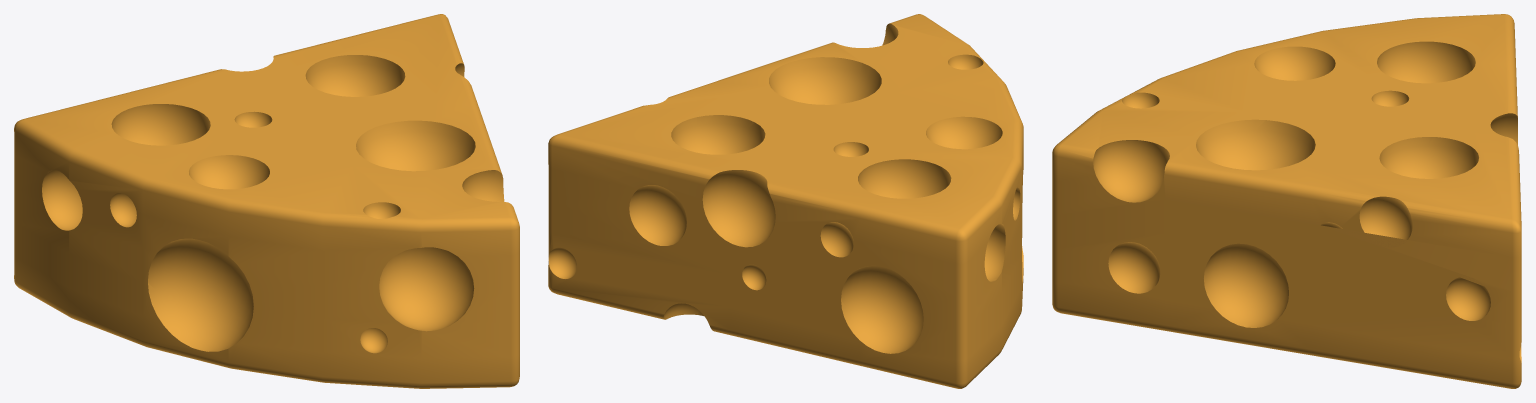
Rendered from Queso.fbx.
The picture shows the model from 3 angles, left to right: view 1: azimuth 30°, elevation 25°; view 2: azimuth 150°, elevation 25°; view 3: azimuth 270°, elevation 25°; orthographic projection. The views are drawn at different scales.
Parts seen in each view (by area): view 1: Queso; view 2: Queso; view 3: Queso.
Boxes of the visible parts, x1=… form: Queso: x1=14, y1=14, x2=519, y2=388; Queso: x1=548, y1=14, x2=1023, y2=388; Queso: x1=1052, y1=14, x2=1521, y2=388.
Size of the model in its own units: 61.69 by 22.76 by 57.34.
